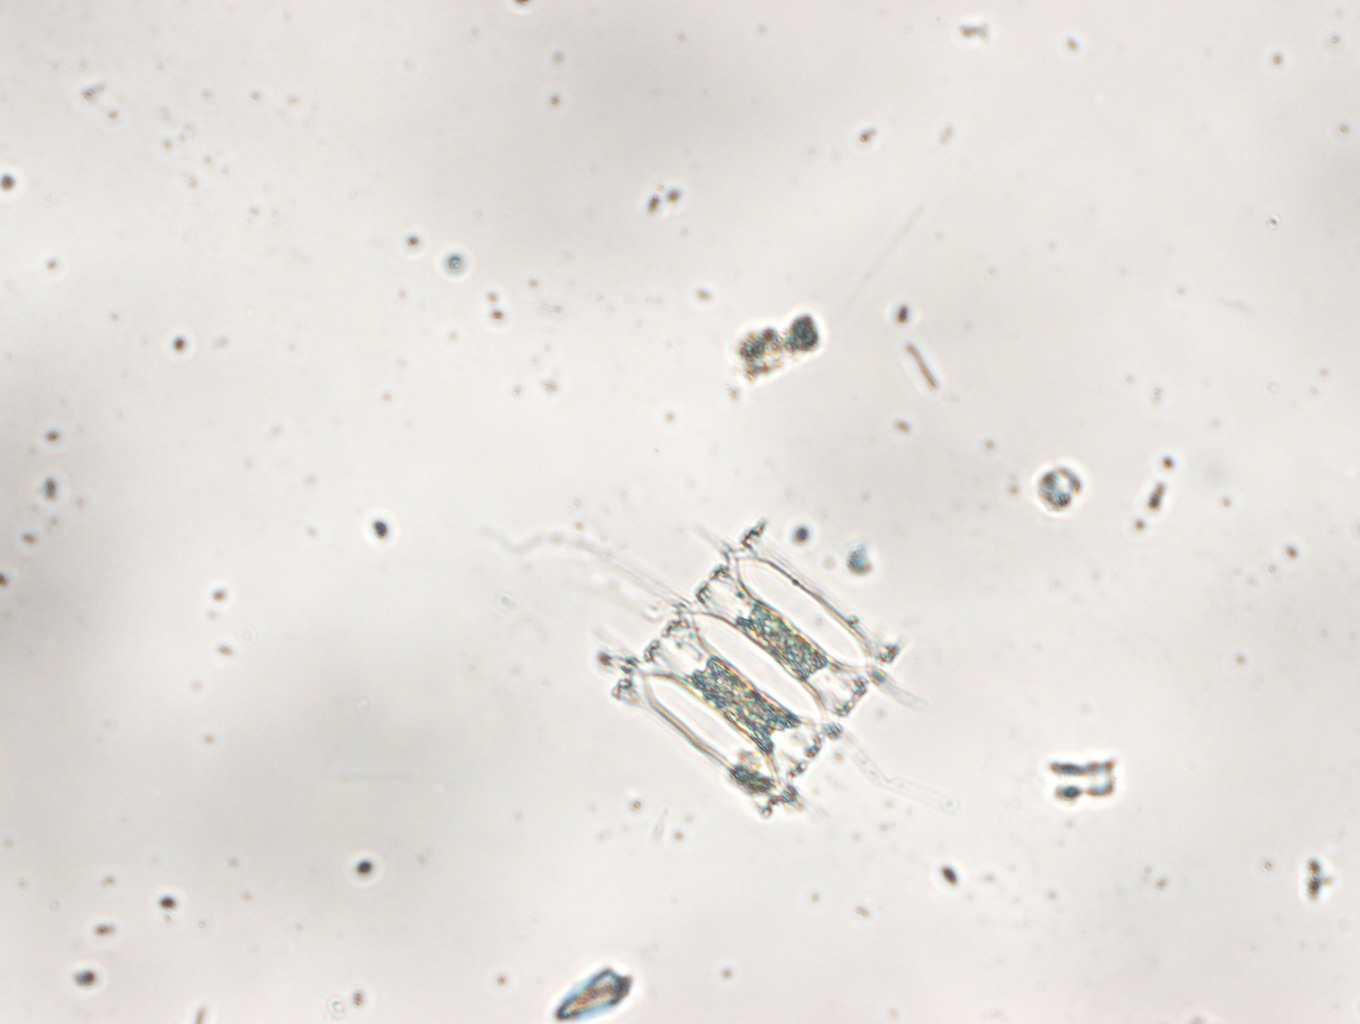chaetoceros: (598, 512, 902, 826)
